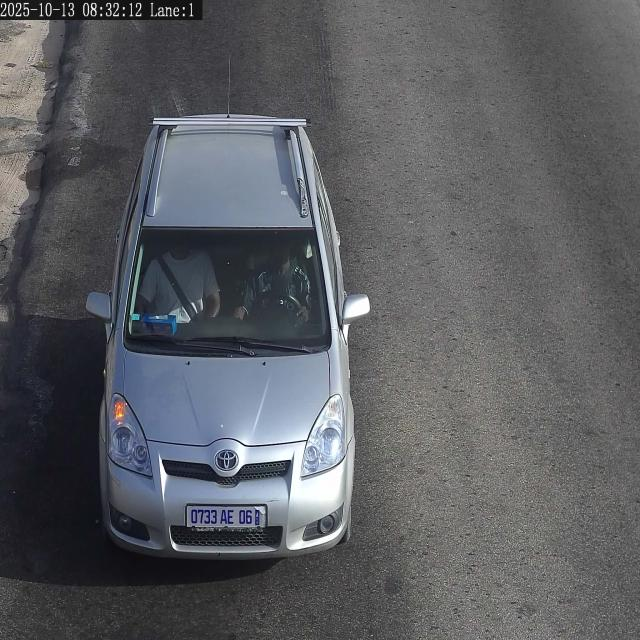BUS: (186, 505, 265, 528)
